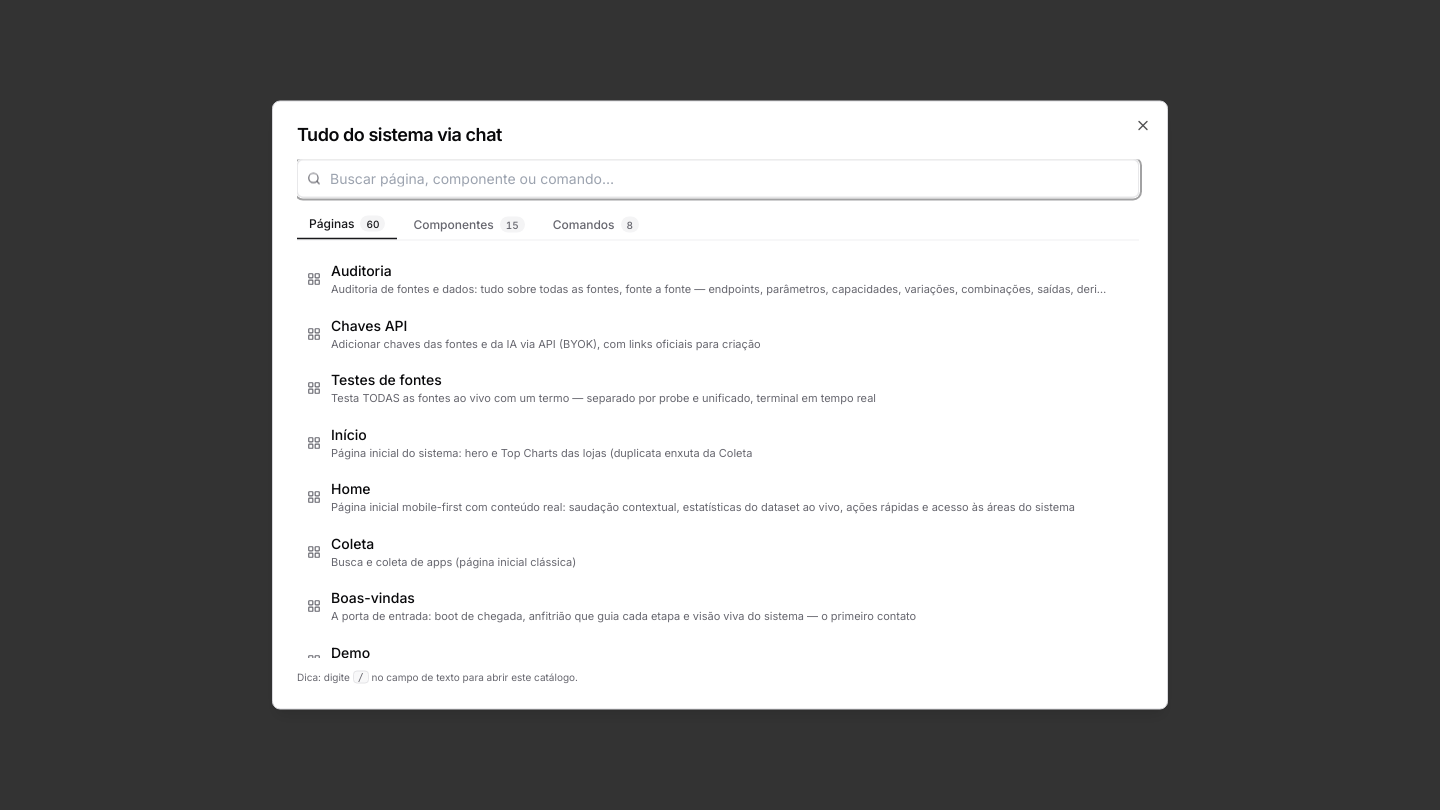
it: ChatCommandPalette › busca sem resultado mostra empty state honesto
The image size is (1440, 810).
Type "zzzznada" into the search field named "buscar no catálogo".
click(718, 178); type("zzzznada")  # box [297,160,1139,198]
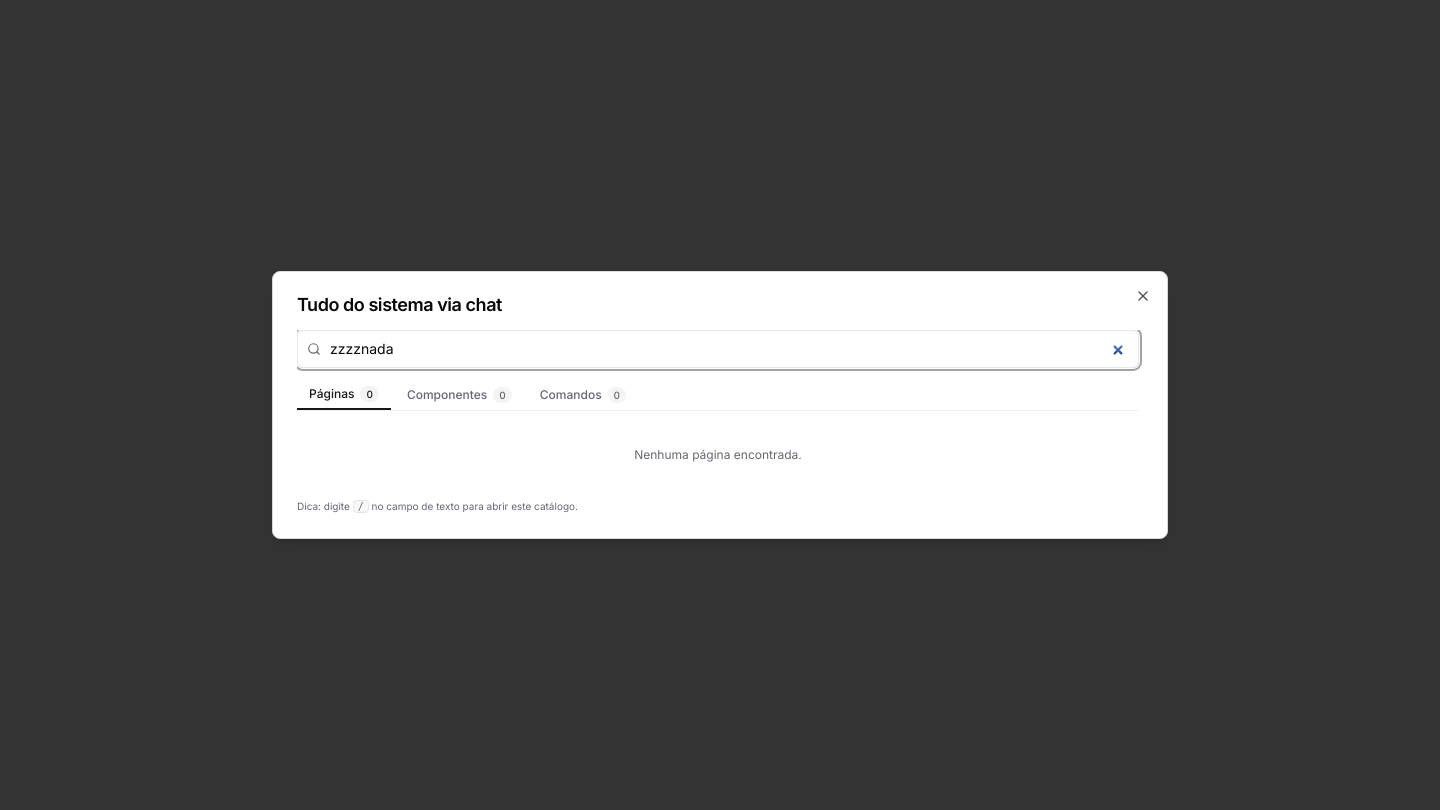
Expected: the text "Nenhuma página encontrada." is shown, [634,447,802,462]
